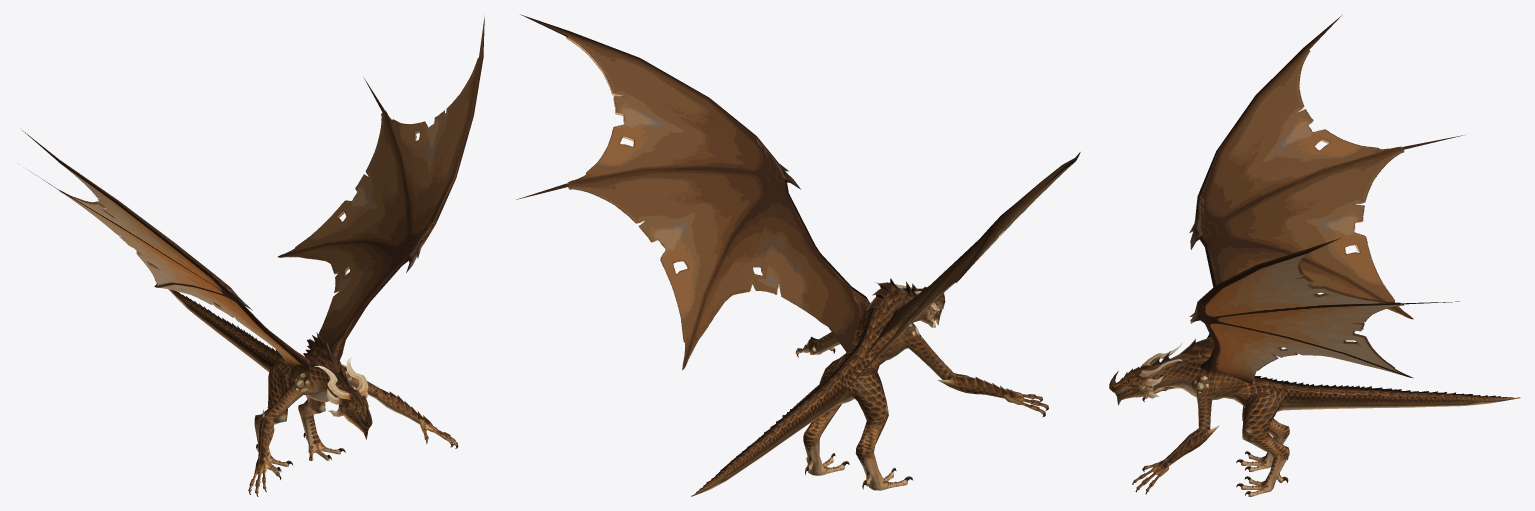
The model's file is dragon_flyby_d1307782.glb.
3 renders of one model, left to right at view 1: azimuth 30°, elevation 25°; view 2: azimuth 150°, elevation 25°; view 3: azimuth 270°, elevation 25°, orthographic. The views are drawn at different scales.
Bounding box in the file's own units: 20.91 × 15.36 × 16.29.
1 material, 1 textured.
